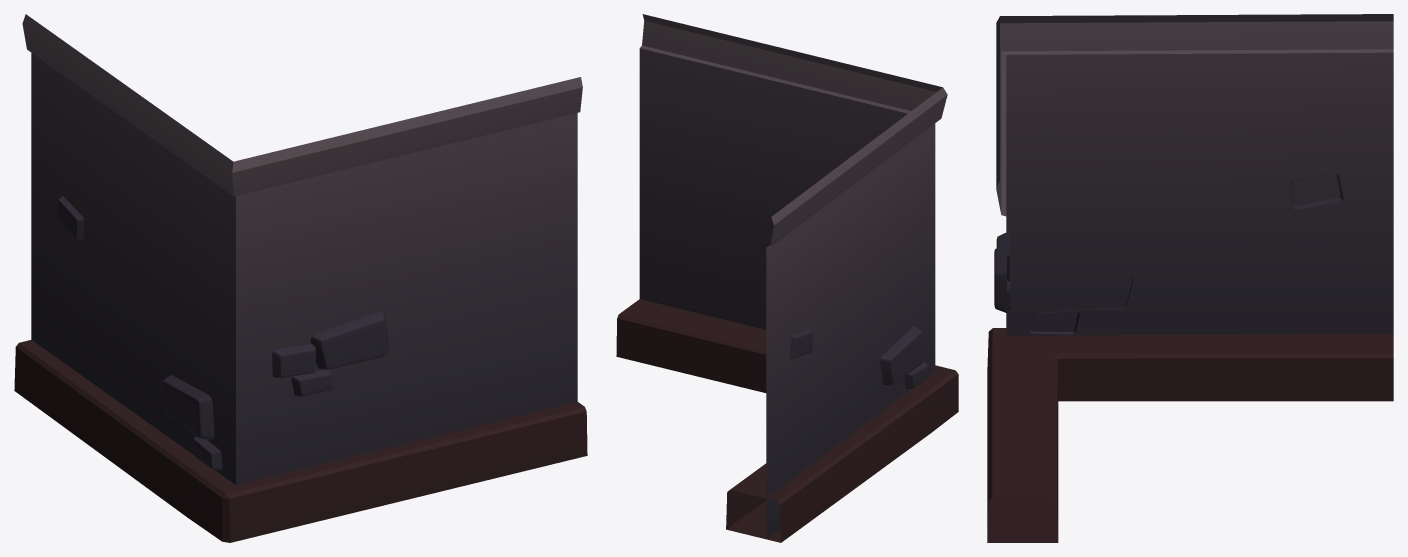
File: SM_Corner_Piece_Out_Tall.fbx
3 renders of one model, left to right at view 1: azimuth 30°, elevation 25°; view 2: azimuth 150°, elevation 25°; view 3: azimuth 270°, elevation 25°, orthographic. The views are drawn at different scales.
Visible parts, largest first — view 1: SM_CornerPiece_Out; view 2: SM_CornerPiece_Out; view 3: SM_CornerPiece_Out.
Part boxes in pixels (x1,y1,x2,y2): SM_CornerPiece_Out: (14, 14, 587, 542); SM_CornerPiece_Out: (616, 14, 958, 542); SM_CornerPiece_Out: (987, 14, 1393, 542).
Bounding box in the file's own units: 200 × 197 × 200.
Materials: 1 (1 with a texture image).
